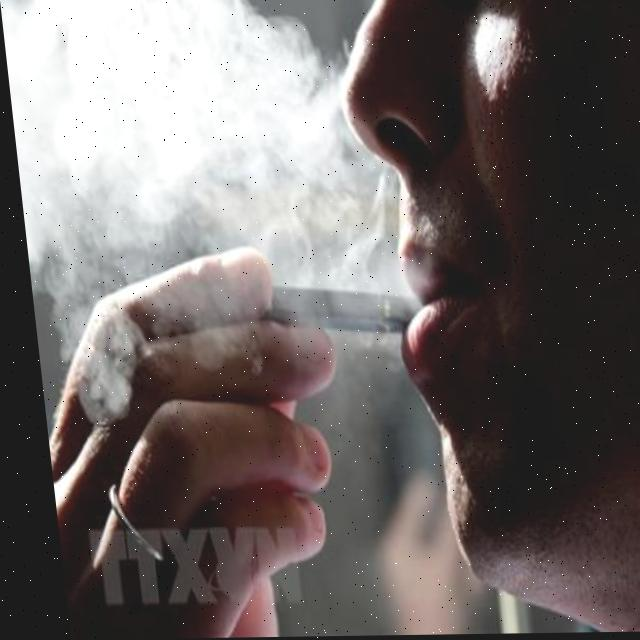vape: (258, 288, 418, 340)
